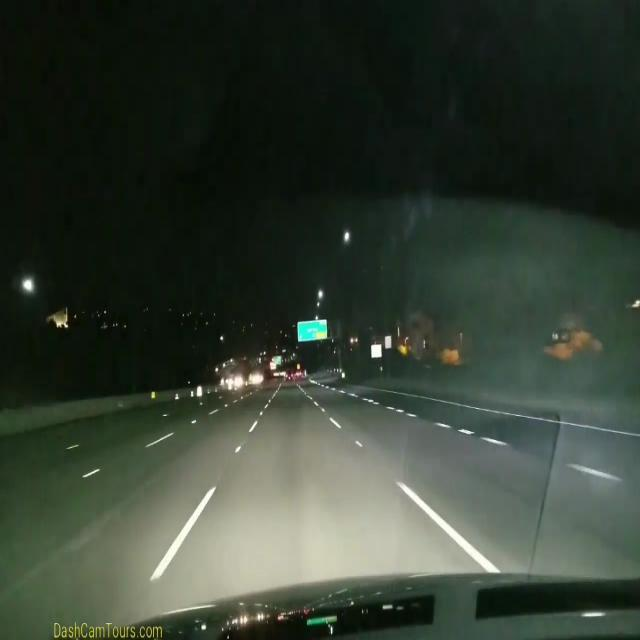street-signs: (297, 320, 327, 340), (274, 355, 281, 365)
